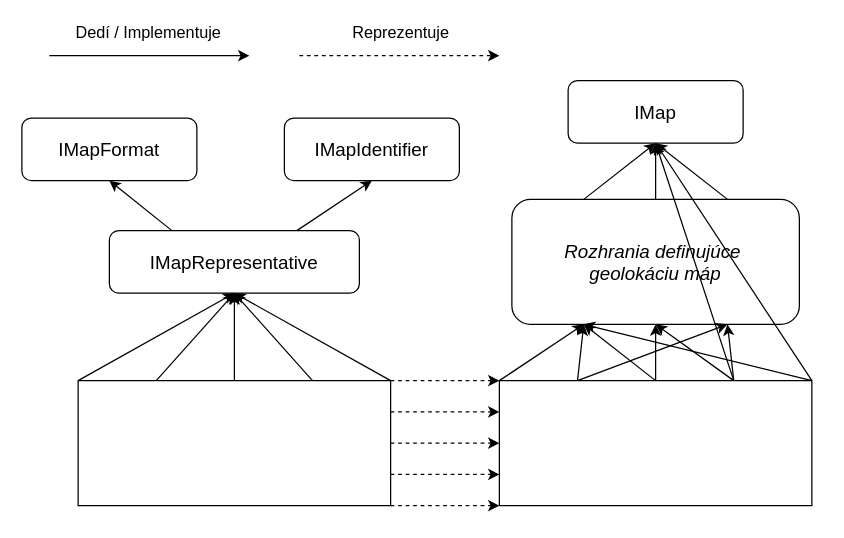
Image size: 844x538. Some labels were removed from this diagram. Each missing label, with the centre of its shape:
Triedy implementujúce mapových r eprezentantov: the point at 234,442
Triedy implementujúce mapy: the point at 655,442
